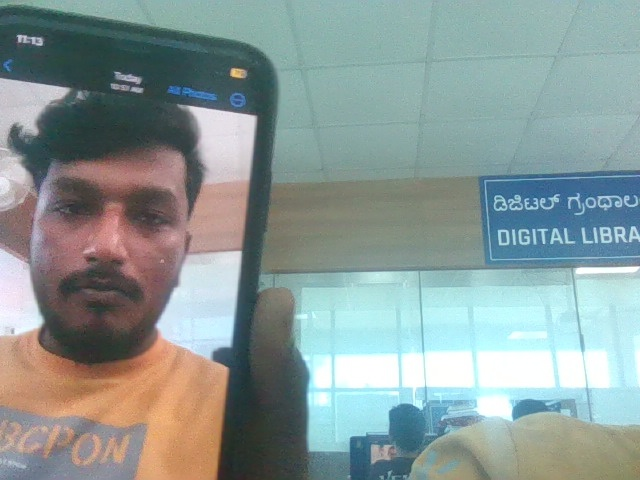fake: (5, 58, 223, 367)
